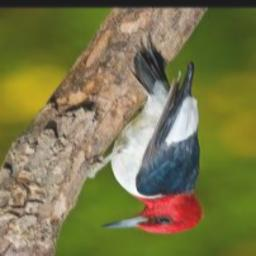Woodpecker: (79, 31, 212, 233)
